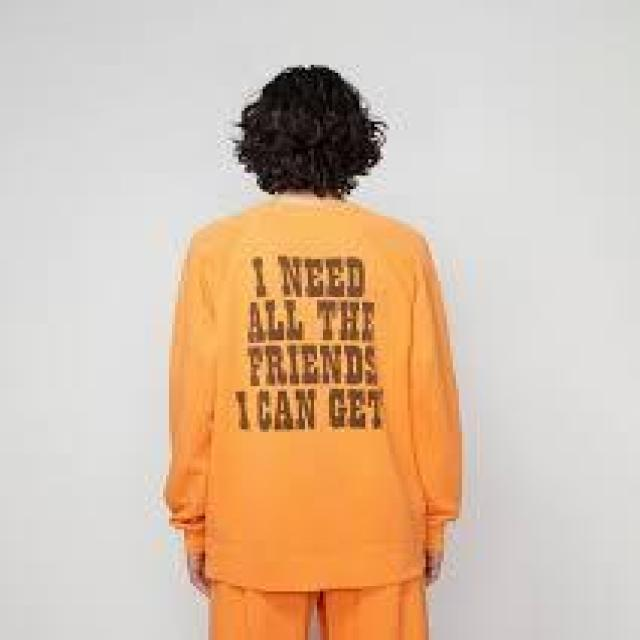sweater: (158, 181, 466, 605)
